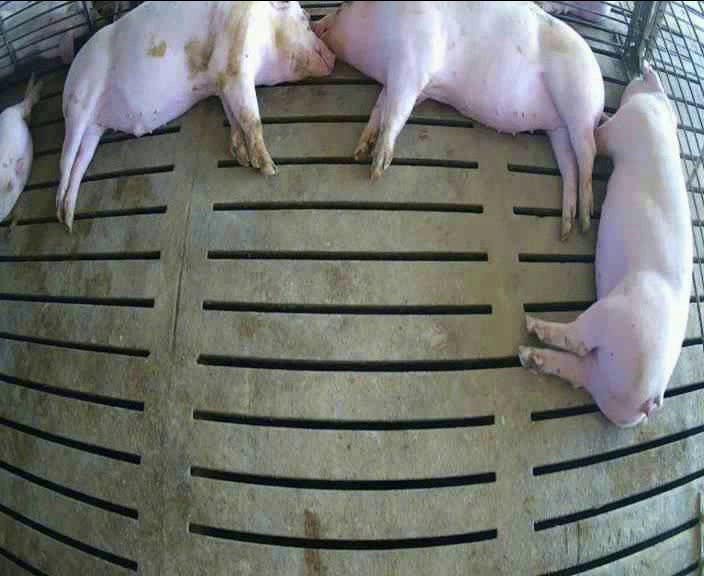pig: (313, 2, 609, 237), (519, 59, 692, 425), (56, 2, 334, 229)
